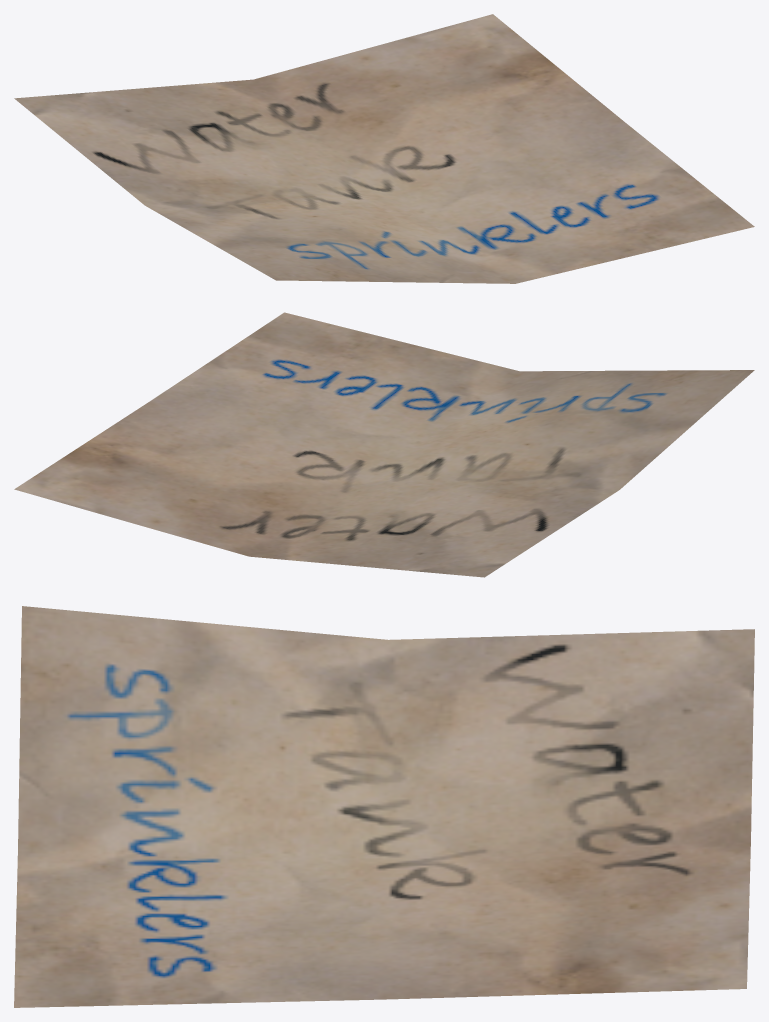
File: WaterTank.FBX
3 renders of one model, top to bottom at view 1: azimuth 30°, elevation 25°; view 2: azimuth 150°, elevation 25°; view 3: azimuth 270°, elevation 25°, orthographic. The views are drawn at different scales.
Visible parts, largest first — view 1: WaterTank; view 2: WaterTank; view 3: WaterTank.
Part boxes in pixels (box(x1,y1,x2,y2)): WaterTank: box(14, 14, 754, 283); WaterTank: box(14, 312, 754, 577); WaterTank: box(14, 606, 754, 1007).
Size of the model in its own units: 14.81 by 1.81 by 14.39.
